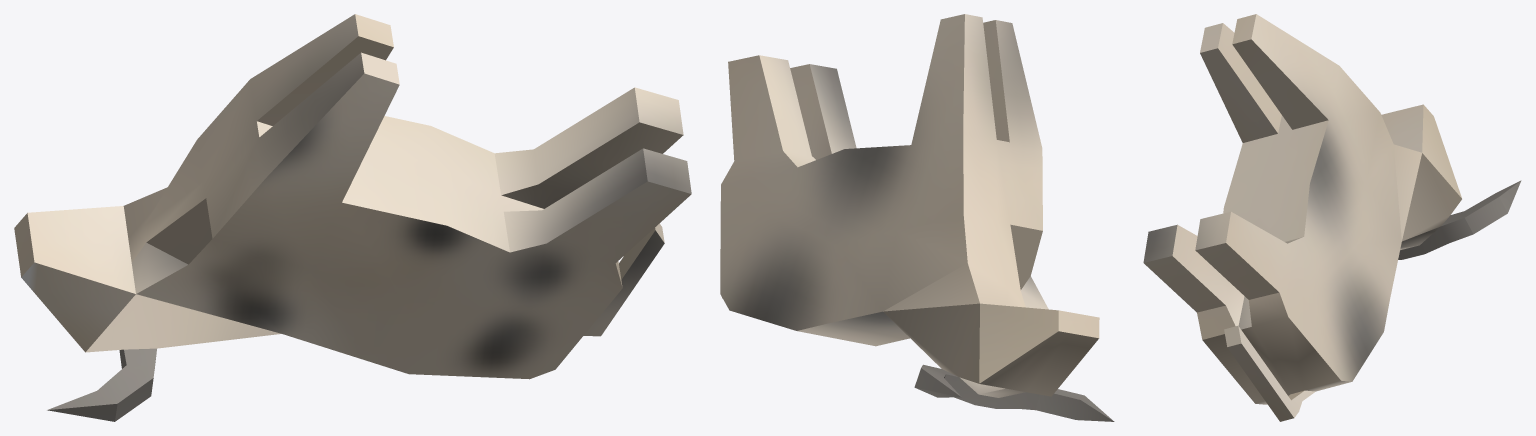
File: vacas.fbx
3 renders of one model, left to right at view 1: azimuth 30°, elevation 25°; view 2: azimuth 150°, elevation 25°; view 3: azimuth 270°, elevation 25°, orthographic. The views are drawn at different scales.
Visible parts, largest first — view 1: Mesh; view 2: Mesh; view 3: Mesh.
Part boxes in pixels (box(x1,y1,x2,y2)): Mesh: box(14, 14, 691, 421); Mesh: box(720, 14, 1114, 421); Mesh: box(1143, 14, 1521, 421).
Size of the model in its own units: 14.08 by 10.09 by 10.74.
